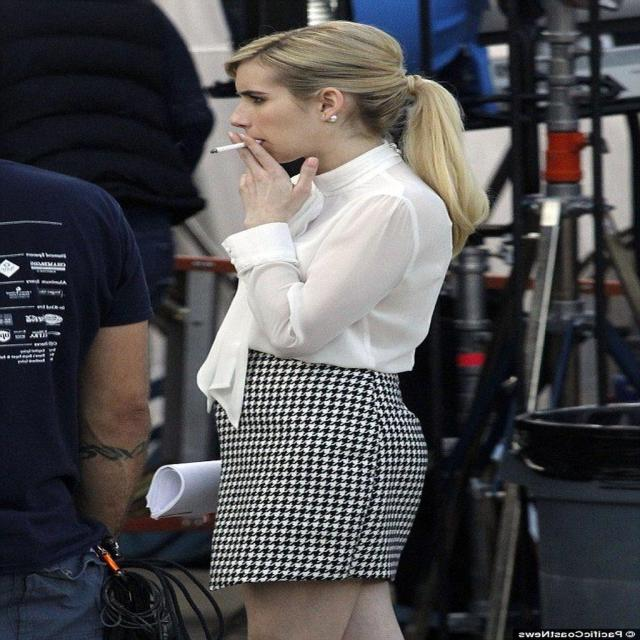smoking: (204, 26, 408, 175)
